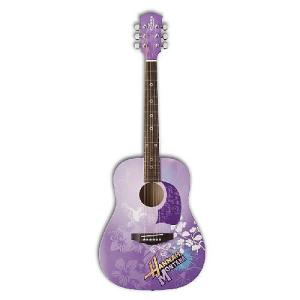guitar: (95, 11, 206, 290)
